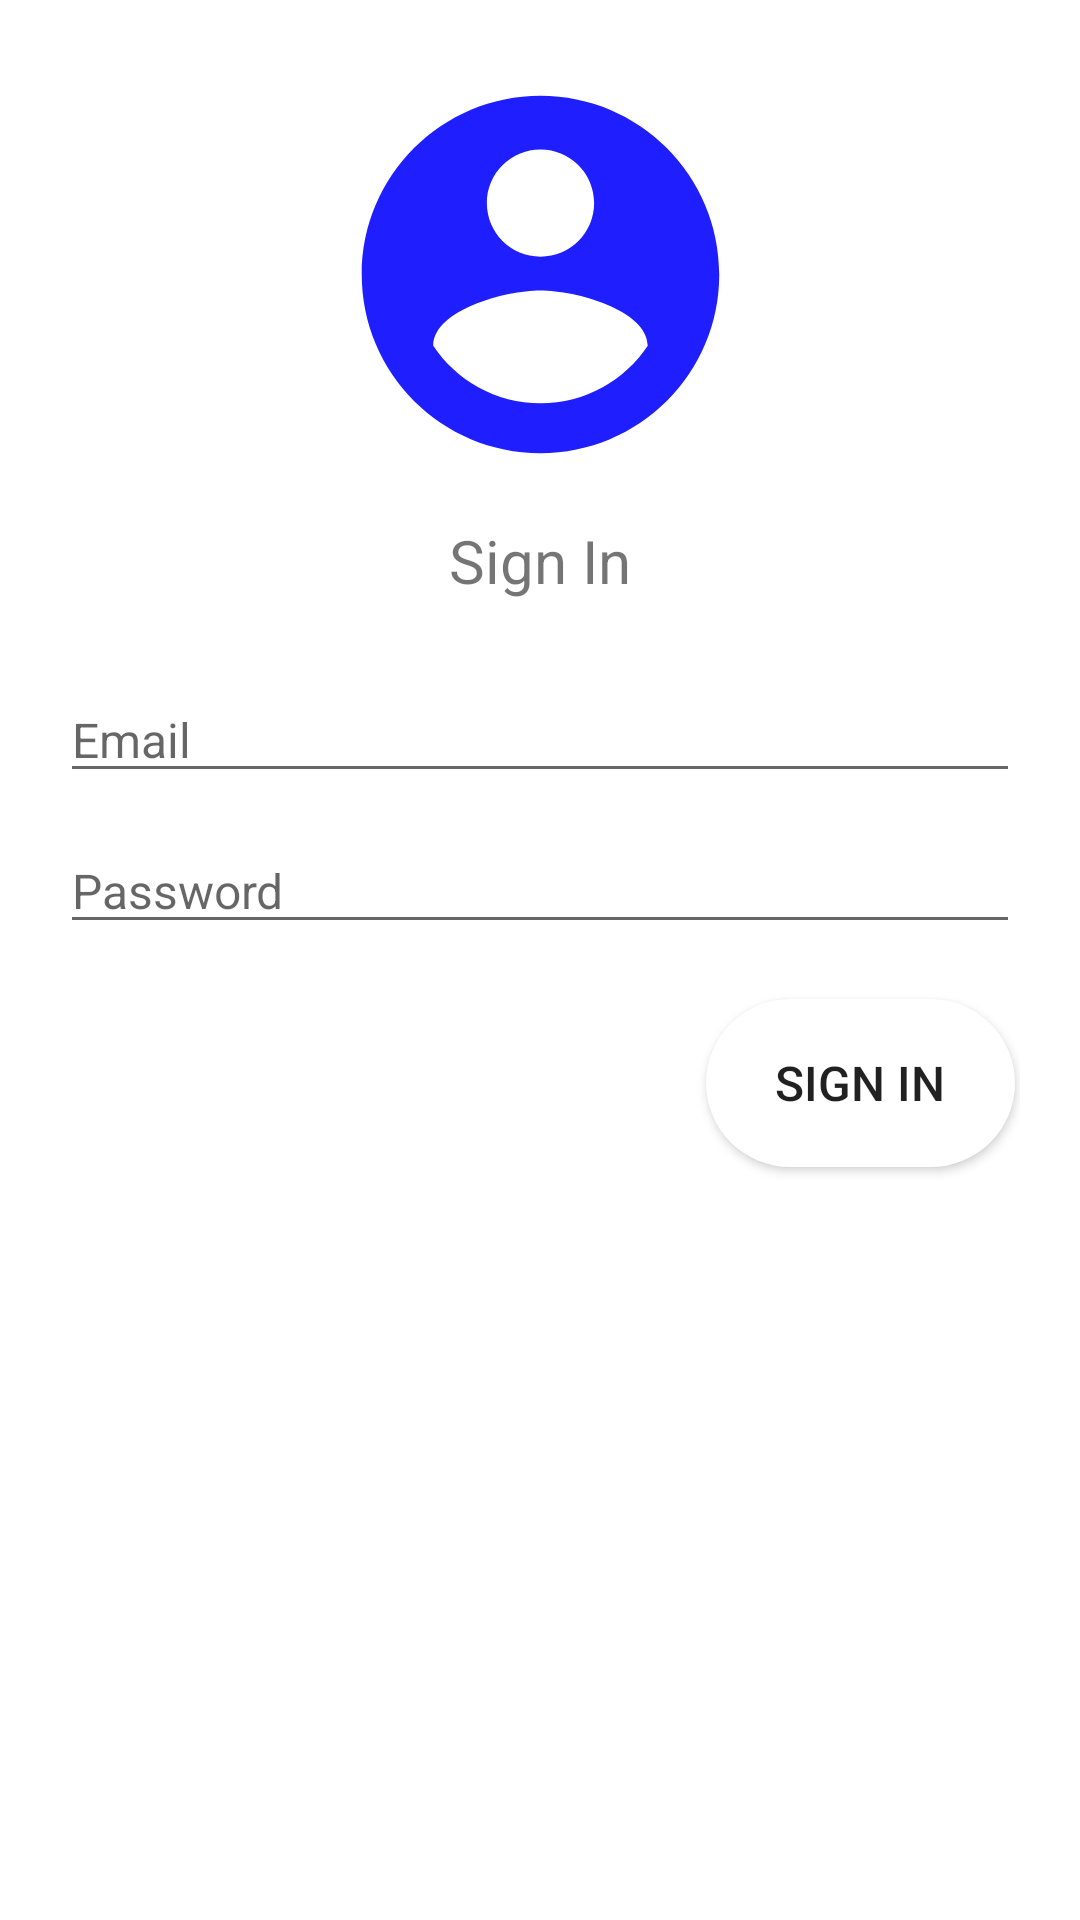

Where to tap for icons on this 1080 × 1920 app screen, as (x,y):
profile: (540,274)
